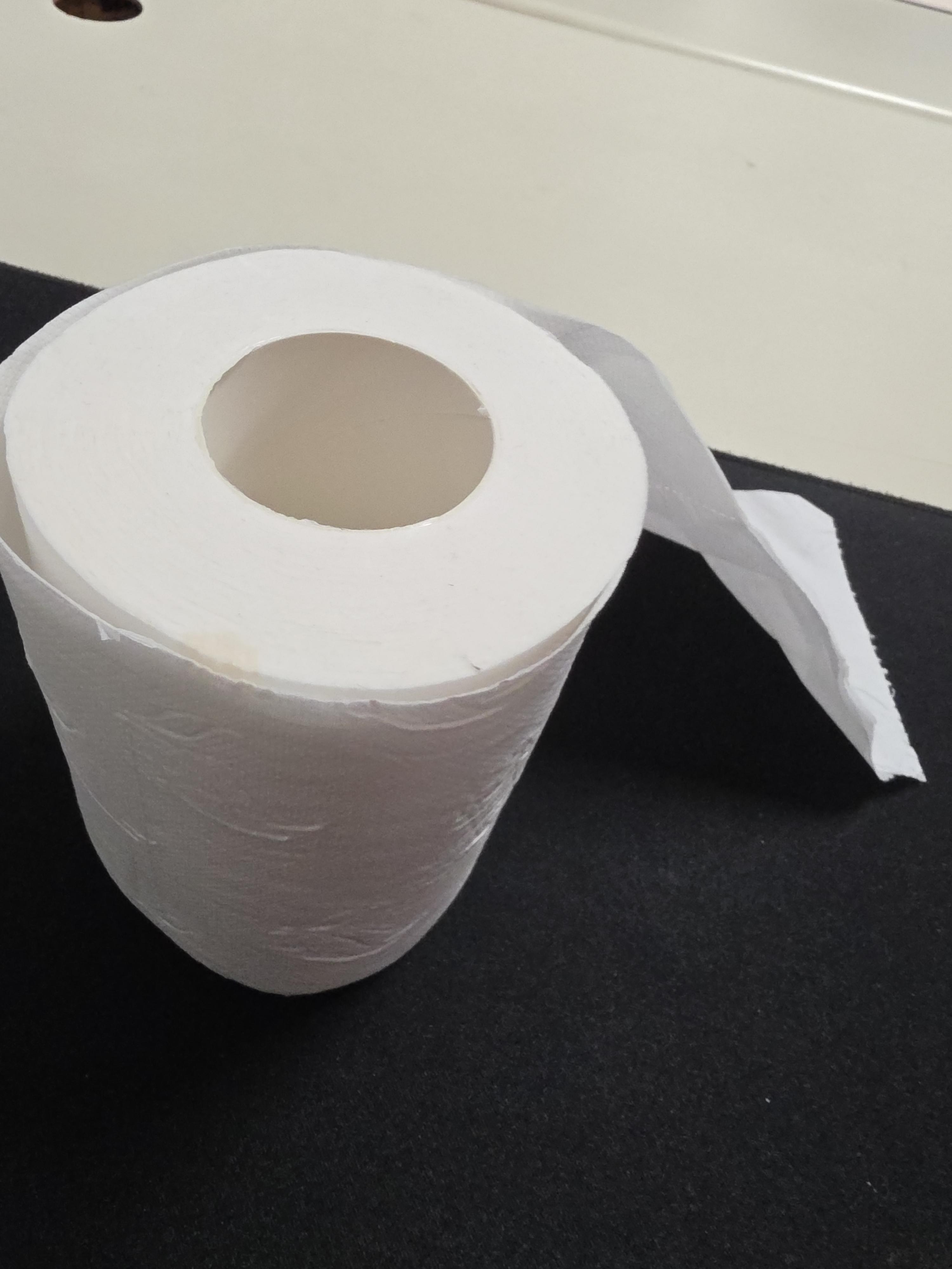tissue: (0, 245, 929, 999)
